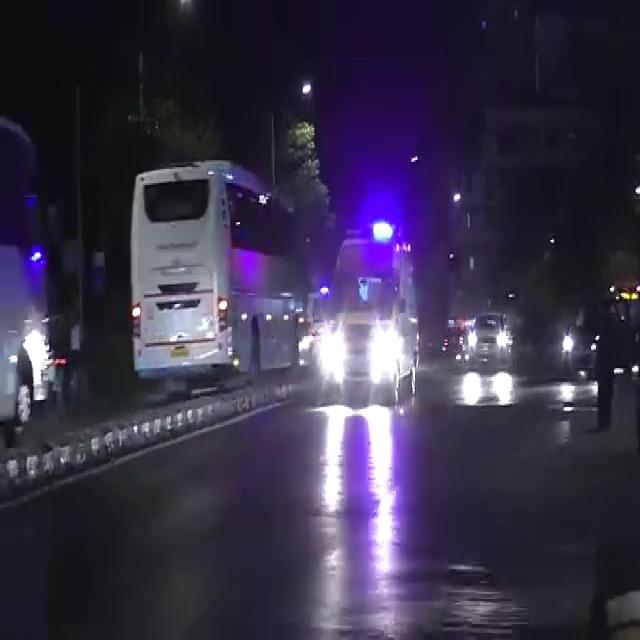ambulance: (298, 232, 432, 404)
